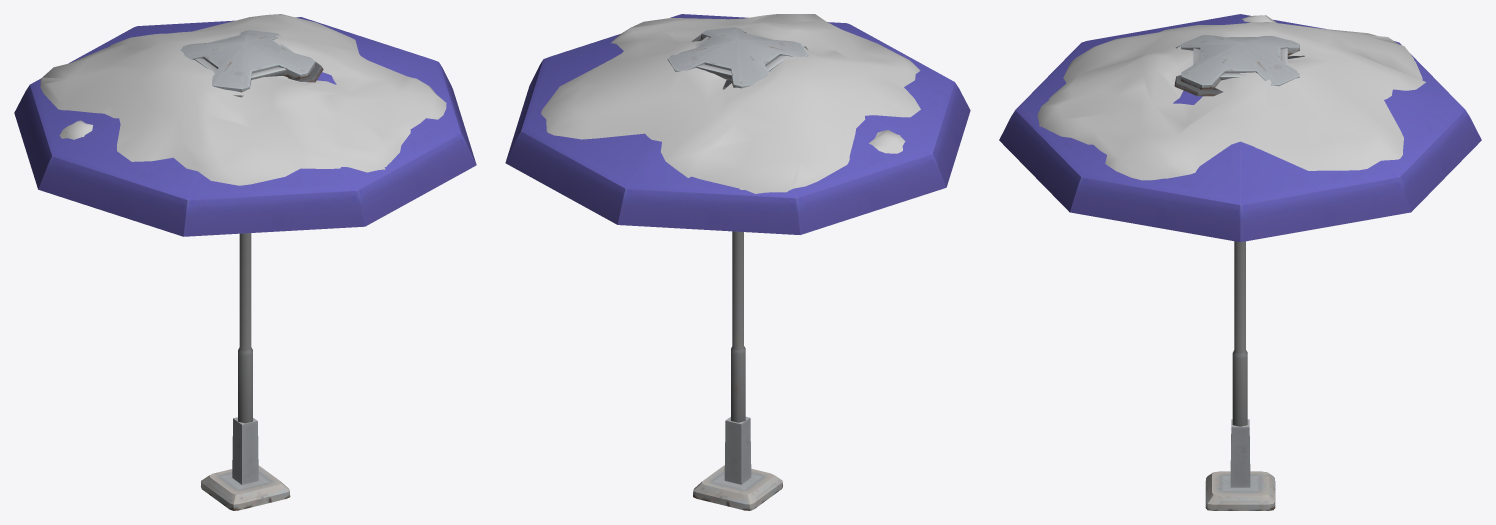
File: pref_sm_city_umbrella02_lv3.fbx
3 renders of one model, left to right at view 1: azimuth 30°, elevation 25°; view 2: azimuth 150°, elevation 25°; view 3: azimuth 270°, elevation 25°, orthographic.
Visible parts, largest first — view 1: sm_city_umbrella02_lv3, sm_city_umbrella02b_lv3; view 2: sm_city_umbrella02_lv3, sm_city_umbrella02b_lv3; view 3: sm_city_umbrella02_lv3, sm_city_umbrella02b_lv3.
Boxes of the visible parts, x1,y1,x2,y2 form: sm_city_umbrella02_lv3: (14,17,476,510); sm_city_umbrella02b_lv3: (40,14,446,185); sm_city_umbrella02_lv3: (505,14,970,510); sm_city_umbrella02b_lv3: (541,14,920,193); sm_city_umbrella02_lv3: (999,14,1481,510); sm_city_umbrella02b_lv3: (1037,15,1425,180).
Bounding box in the file's own units: 4.22 × 4.37 × 4.22.
